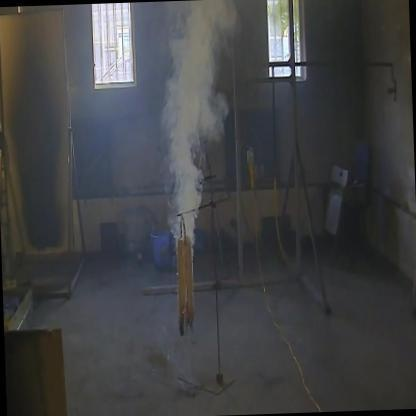smoke: (134, 4, 245, 310)
